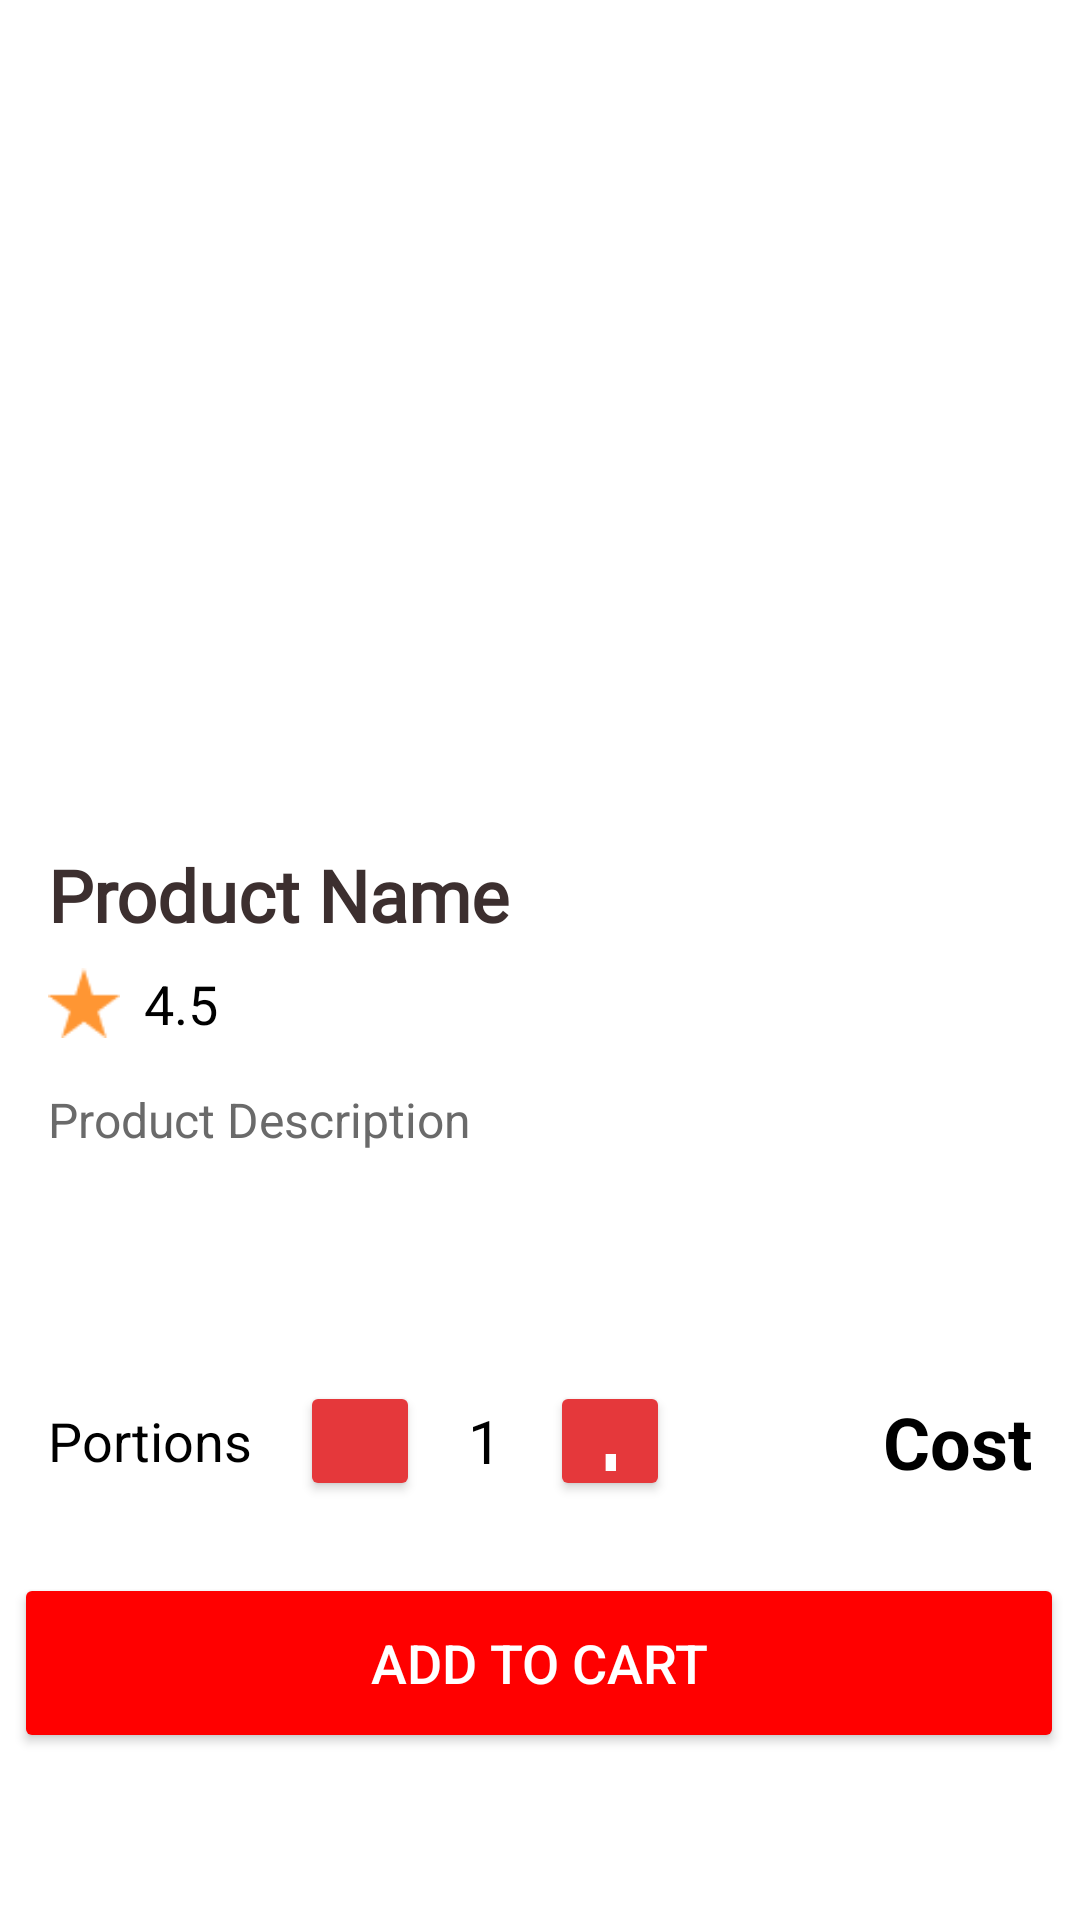

Icons on this 1080px x 1920px Android screen, each with its box as (x1, y1, x2, y2):
star: (48, 969, 120, 1038)
